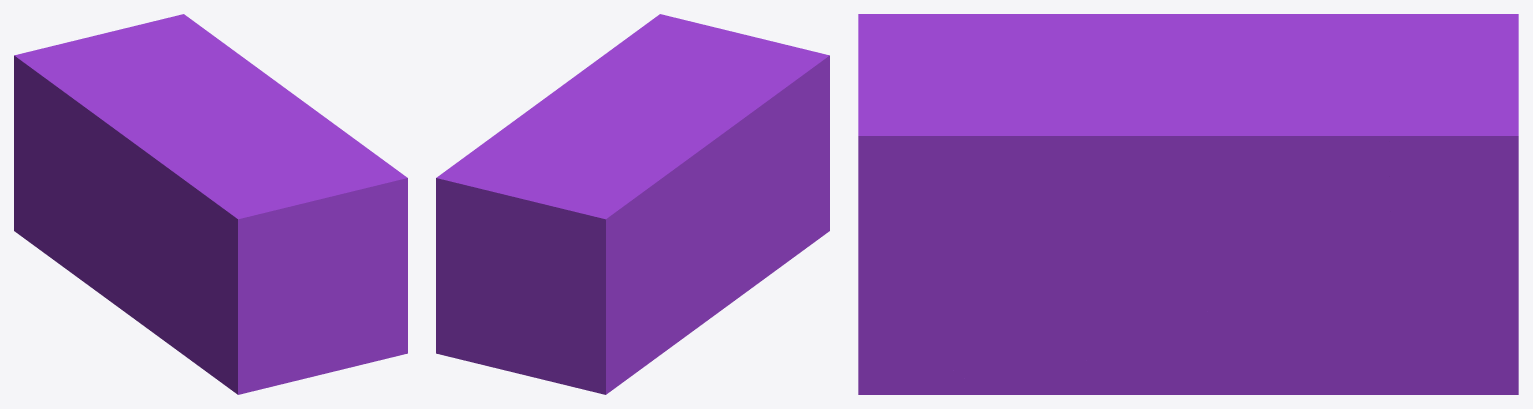
The model's file is ExhibitGlass_1.003_chunks.fbx.
3 views of the same model, side by side, from view 1: azimuth 30°, elevation 25°; view 2: azimuth 150°, elevation 25°; view 3: azimuth 270°, elevation 25° (orthographic). The views are drawn at different scales.
Visible parts, largest first — view 1: ExhibitGlass_1.003_0, ExhibitGlass_1.003_3, ExhibitGlass_1.003_2, ExhibitGlass_1.003_1; view 2: ExhibitGlass_1.003_3, ExhibitGlass_1.003_0, ExhibitGlass_1.003_2, ExhibitGlass_1.003_1; view 3: ExhibitGlass_1.003_2, ExhibitGlass_1.003_3, ExhibitGlass_1.003_1, ExhibitGlass_1.003_0.
Part boxes in pixels (box(x1,y1,x2,y2)): ExhibitGlass_1.003_0: box(111, 137, 407, 394); ExhibitGlass_1.003_3: box(14, 14, 227, 267); ExhibitGlass_1.003_2: box(207, 46, 407, 285); ExhibitGlass_1.003_1: box(28, 241, 122, 310); ExhibitGlass_1.003_3: box(436, 107, 736, 394); ExhibitGlass_1.003_0: box(677, 25, 829, 315); ExhibitGlass_1.003_2: box(480, 14, 706, 145); ExhibitGlass_1.003_1: box(436, 263, 714, 392); ExhibitGlass_1.003_2: box(858, 57, 1390, 394); ExhibitGlass_1.003_3: box(1128, 14, 1518, 261); ExhibitGlass_1.003_1: box(1004, 236, 1518, 394); ExhibitGlass_1.003_0: box(858, 14, 1133, 394).
Bounding box in the file's own units: 270 × 267 × 618.
